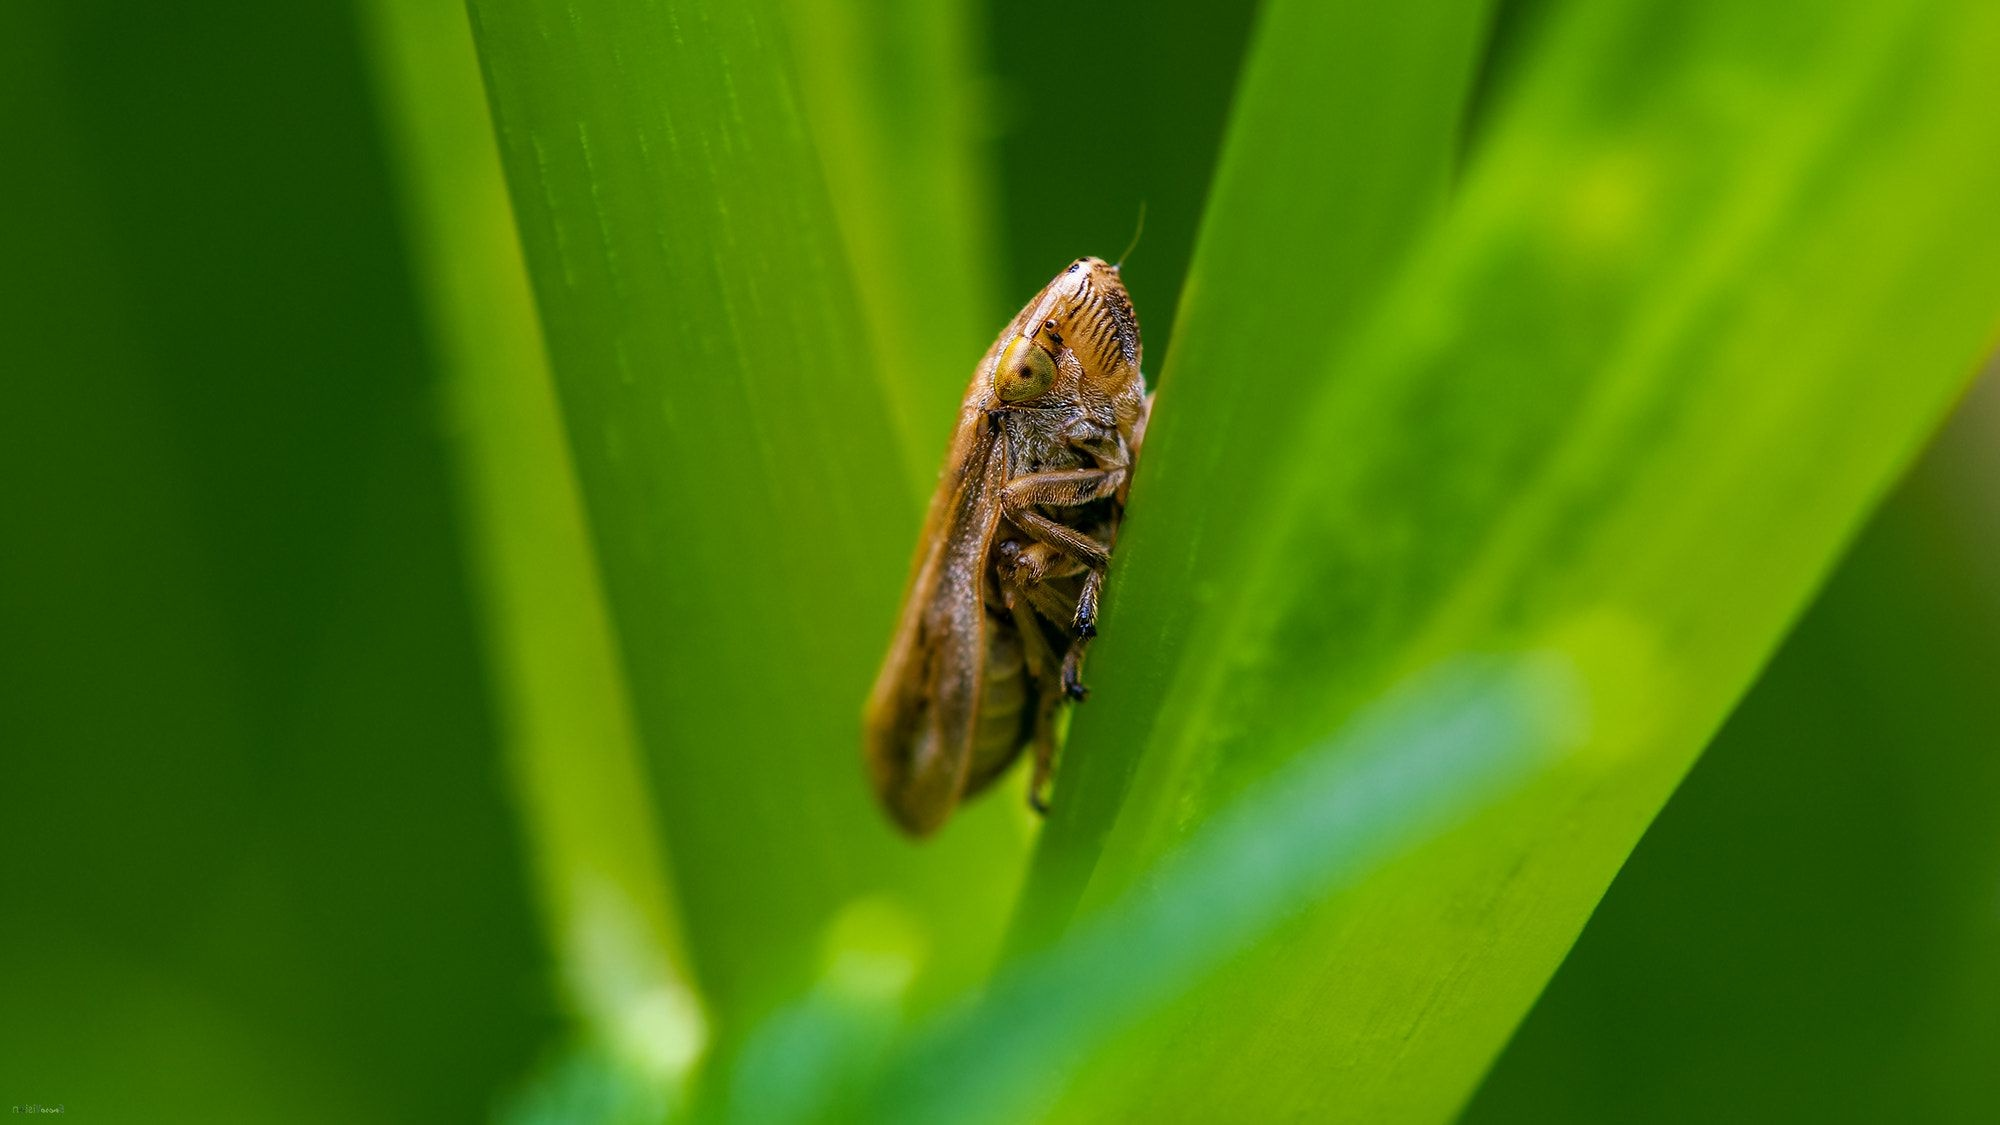Brown_hopper: (835, 216, 1181, 861)
